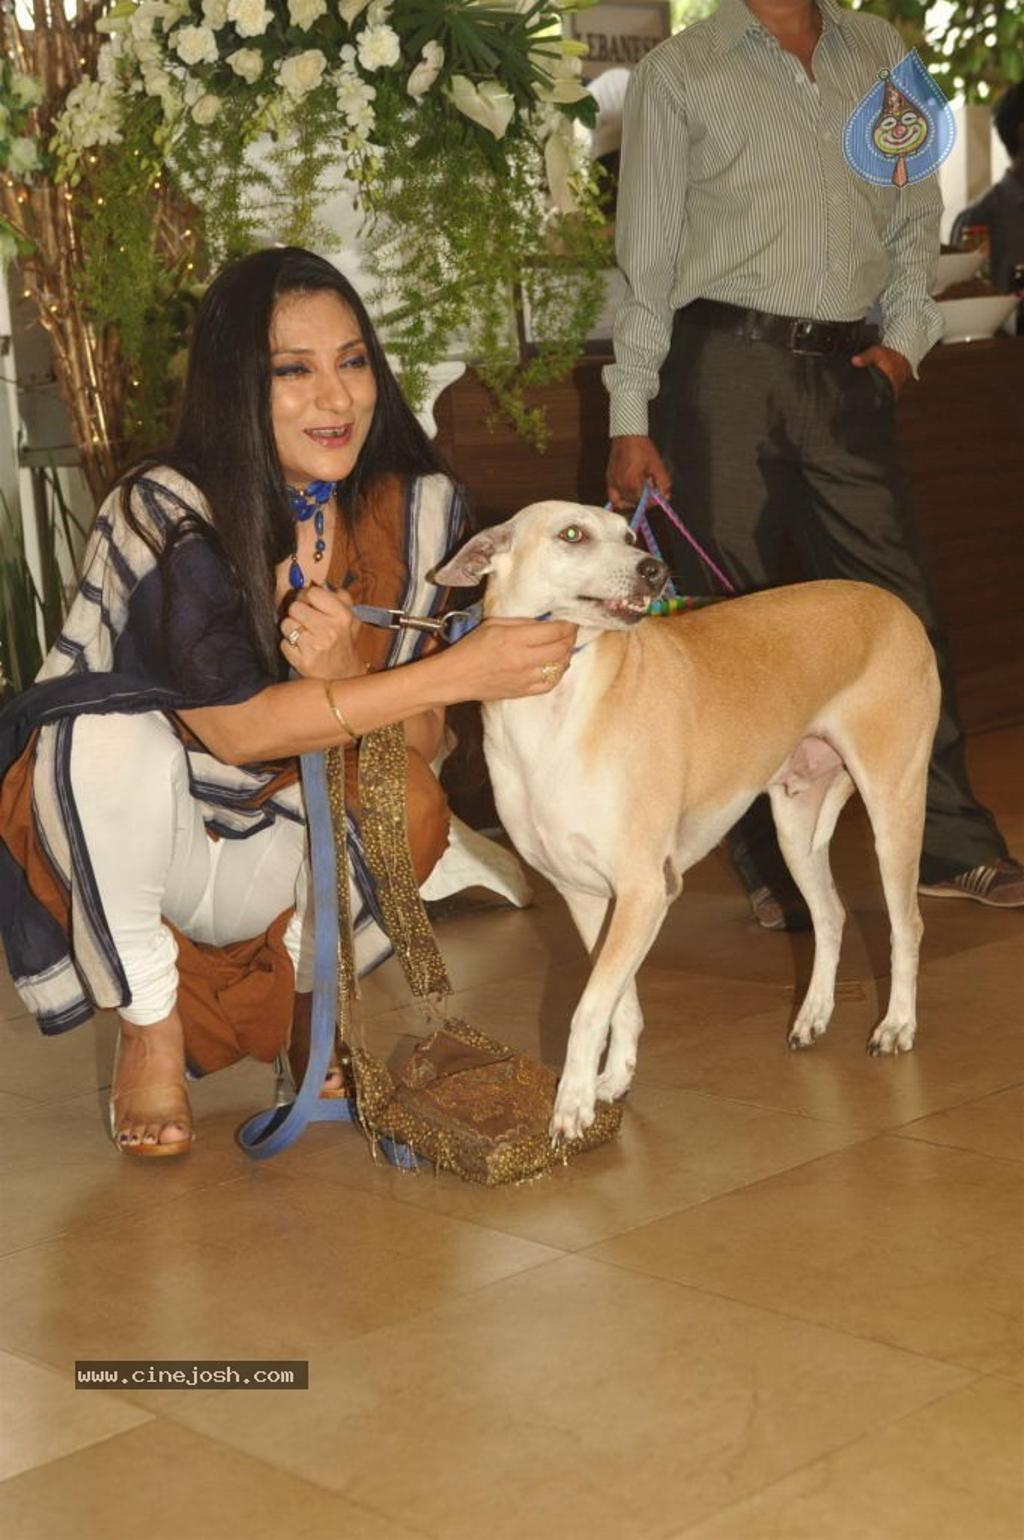face: (249, 285, 375, 483)
